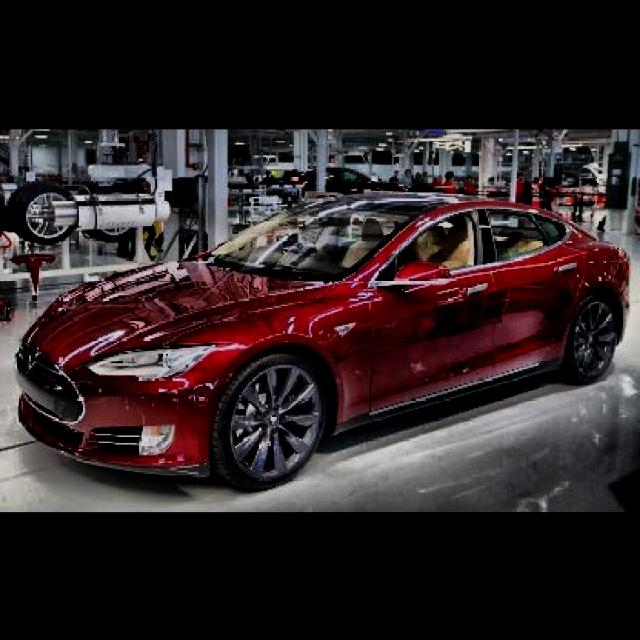maroon: (13, 196, 629, 488)
